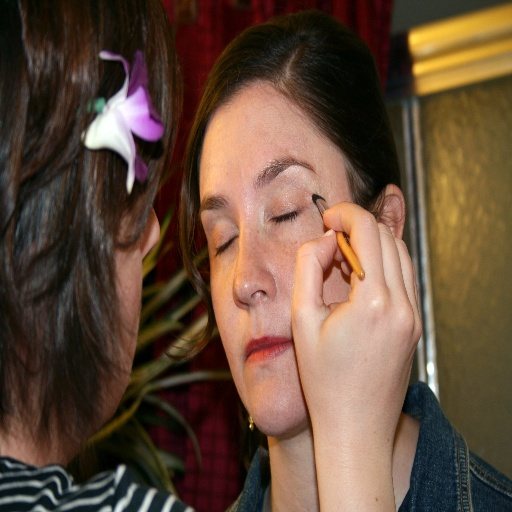hand: (288, 185, 427, 483)
